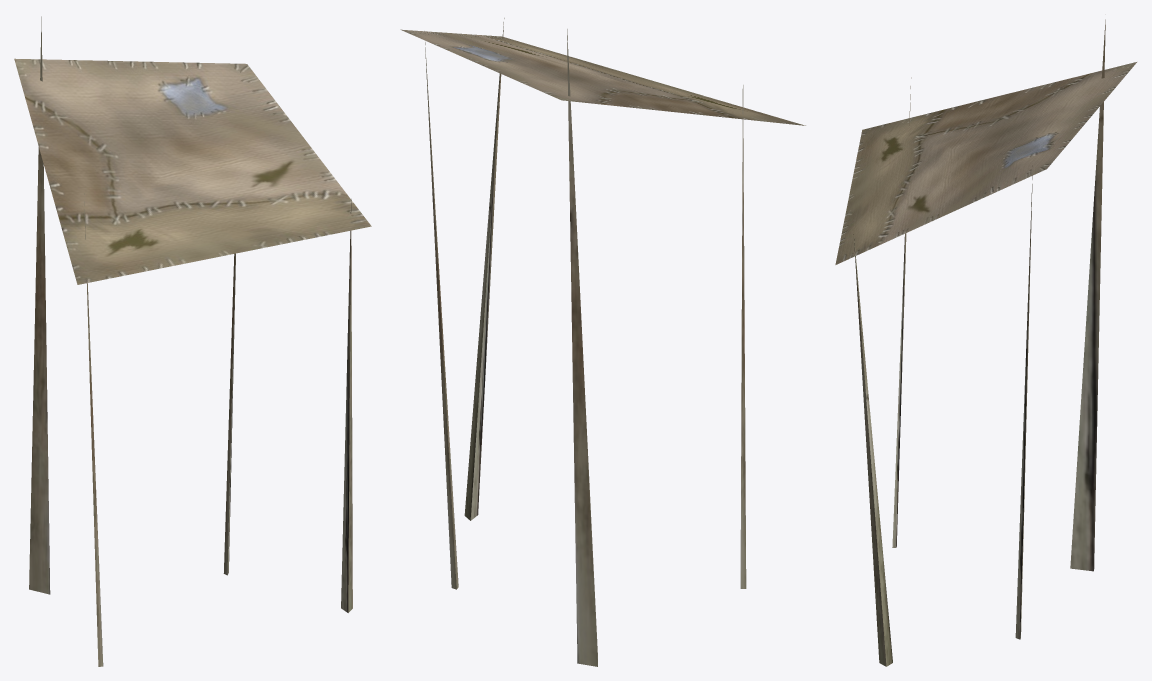
The model's file is 1shanty_tents_empty.fbx.
3 renders of one model, left to right at view 1: azimuth 30°, elevation 25°; view 2: azimuth 150°, elevation 25°; view 3: azimuth 270°, elevation 25°, orthographic. The views are drawn at different scales.
Visible parts, largest first — view 1: canopies, post23, post13, post7, post20; view 2: canopies, post23, post13, post20, post7; view 3: canopies, post23, post13, post20, post7.
Boxes of the visible parts, x1,y1,x2,y2 form: canopies: (14,58,371,284); post23: (29,16,50,594); post13: (341,199,352,612); post7: (84,193,103,666); post20: (223,72,240,575); canopies: (400,29,805,125); post23: (567,29,597,666); post13: (464,18,504,520); post20: (424,31,458,589); post7: (740,85,746,588); canopies: (835,62,1136,264); post23: (1070,19,1105,571); post13: (853,234,892,666); post20: (1015,165,1032,639); post7: (892,77,911,547).
Size of the model in its own units: 1207 by 2268 by 1111.
2 materials, 2 textured.
